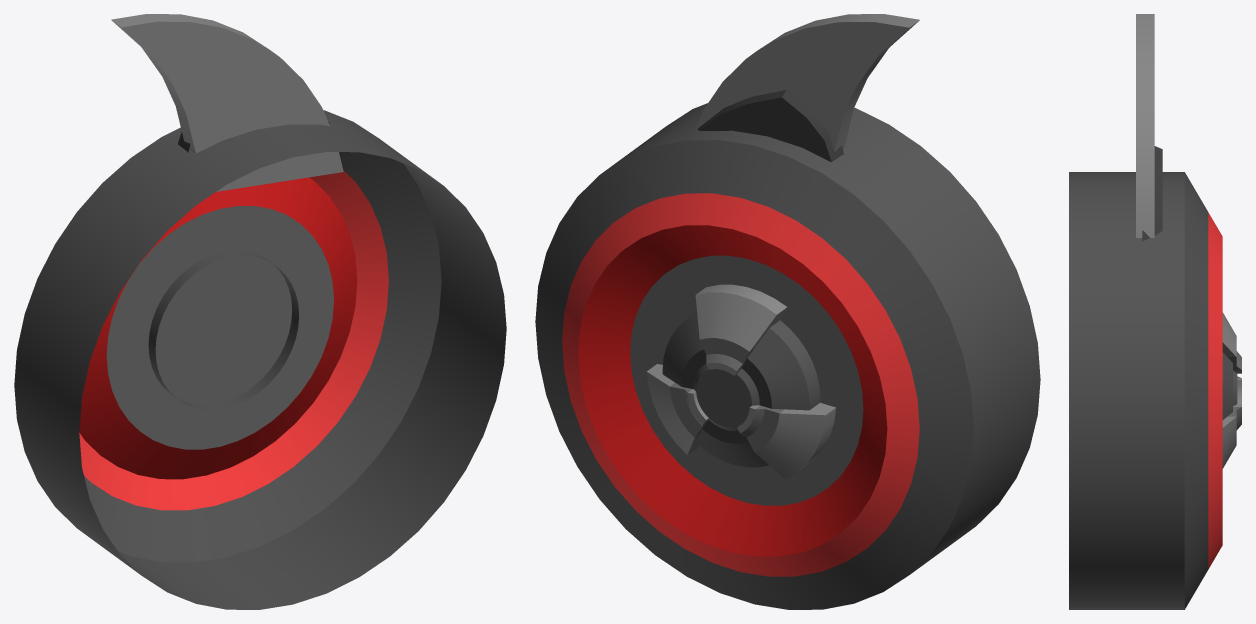
File: Saw.fbx
The picture shows the model from 3 angles, left to right: view 1: azimuth 30°, elevation 25°; view 2: azimuth 150°, elevation 25°; view 3: azimuth 270°, elevation 25°; orthographic projection. The views are drawn at different scales.
Visible parts, largest first — view 1: Mid, Knife; view 2: Mid, Knife; view 3: Mid, Knife.
Boxes of the visible parts, x1,y1,x2,y2 form: Mid: [14, 110, 506, 609]; Knife: [111, 14, 343, 191]; Mid: [535, 103, 1040, 609]; Knife: [695, 14, 919, 162]; Mid: [1069, 172, 1241, 609]; Knife: [1136, 14, 1162, 241].
Size of the model in its own units: 174 by 226 by 68.54.
